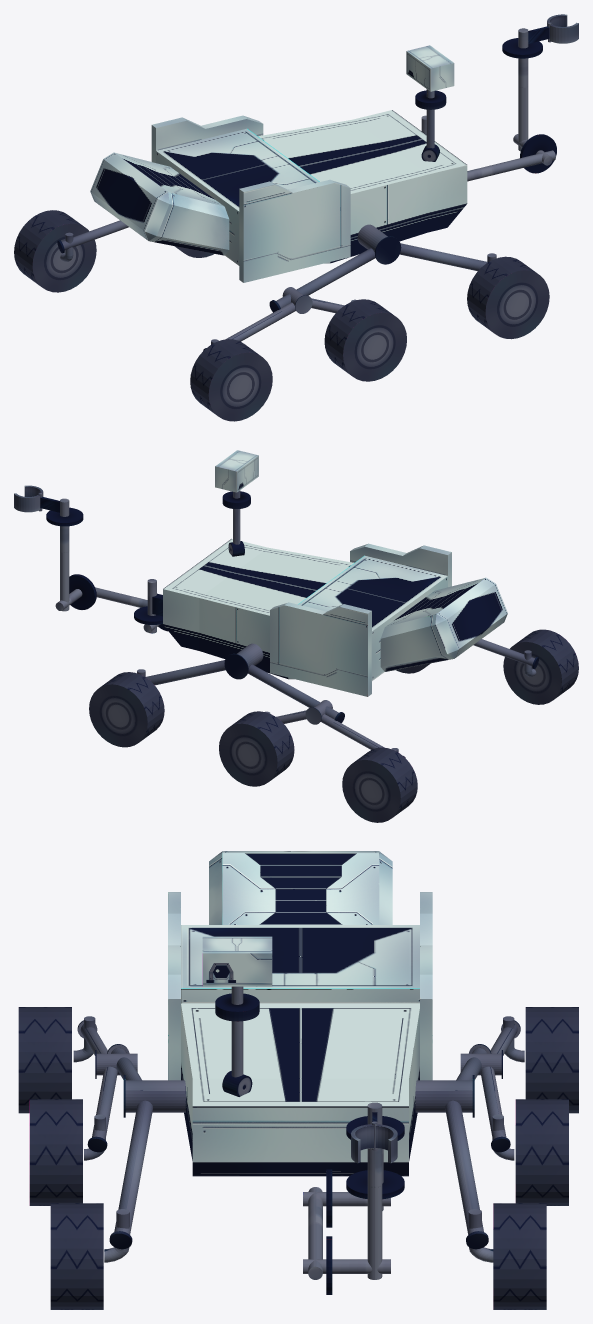
File: rover.fbx
3 views of the same model, one above another, from view 1: azimuth 30°, elevation 25°; view 2: azimuth 150°, elevation 25°; view 3: azimuth 270°, elevation 25° (orthographic). The views are drawn at different scales.
Parts seen in each view (by area): view 1: Front Body, Side Body, Back Body, Mid Body, Wheel.002, Wheel, Wheel.001, Rgiht Axis, Wheel.005, Side Body.001, Grabby Arm.002, Camera (+3 smaller); view 2: Front Body, Side Body.001, Back Body, Mid Body, Wheel.005, Wheel.003, Wheel.004, Left Axis, Wheel.002, Side Body, Grabby Arm.001, Grabby Arm.002 (+4 smaller); view 3: Front Body, Mid Body, Back Body, Rgiht Axis, Left Axis, Wheel, Wheel.003, Wheel.004, Wheel.001, Wheel.002, Wheel.005, Camera (+8 smaller).
Boxes of the visible parts, <box> form: Front Body: <box>258,110,467,263</box>; Side Body: <box>239,179,350,282</box>; Back Body: <box>90,152,229,255</box>; Mid Body: <box>156,128,330,265</box>; Wheel.002: <box>190,339,272,421</box>; Wheel: <box>467,256,549,339</box>; Wheel.001: <box>324,299,406,381</box>; Rgiht Axis: <box>203,224,496,350</box>; Wheel.005: <box>14,210,96,292</box>; Side Body.001: <box>151,115,263,162</box>; Grabby Arm.002: <box>467,28,555,181</box>; Camera: <box>406,45,454,91</box>; Front Body: <box>163,539,353,678</box>; Side Body.001: <box>270,602,371,696</box>; Back Body: <box>380,577,507,671</box>; Mid Body: <box>288,555,447,680</box>; Wheel.005: <box>342,747,417,822</box>; Wheel.003: <box>89,672,164,747</box>; Wheel.004: <box>219,711,294,786</box>; Left Axis: <box>137,643,405,757</box>; Wheel.002: <box>503,629,578,704</box>; Side Body: <box>350,543,451,587</box>; Grabby Arm.001: <box>46,507,167,631</box>; Grabby Arm.002: <box>60,498,147,611</box>; Front Body: <box>181,1003,419,1176</box>; Mid Body: <box>181,925,419,1003</box>; Back Body: <box>209,851,392,924</box>; Rgiht Axis: <box>73,1016,186,1262</box>; Left Axis: <box>415,1016,524,1262</box>; Wheel: <box>50,1203,103,1309</box>; Wheel.003: <box>493,1203,546,1309</box>; Wheel.004: <box>515,1099,568,1205</box>; Wheel.001: <box>29,1099,82,1205</box>; Wheel.002: <box>18,1007,71,1113</box>; Wheel.005: <box>525,1007,578,1113</box>; Camera: <box>202,936,272,986</box>.
Bounding box in the file's own units: 502 × 239 × 350.
